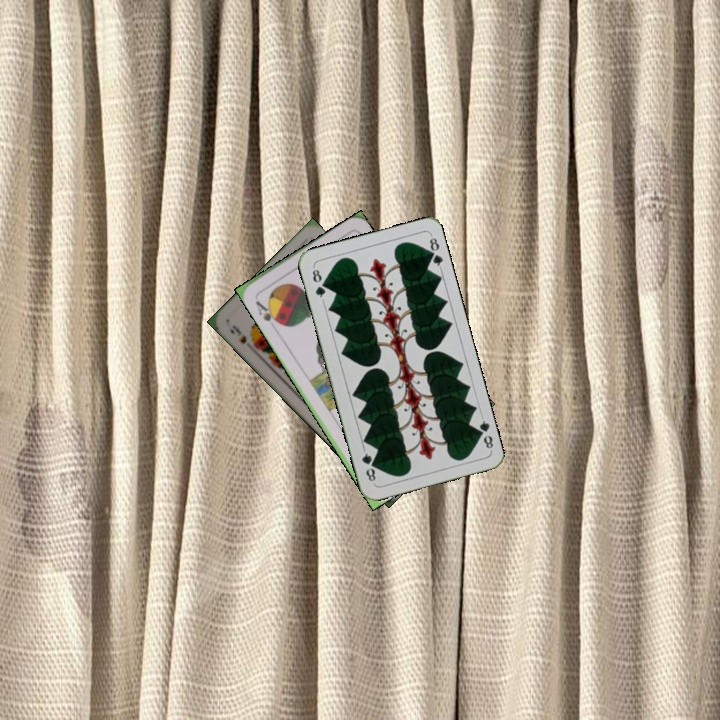G8: (471, 413, 496, 453), (308, 263, 328, 303)
S9: (225, 321, 249, 346)
SA: (251, 294, 283, 327)
